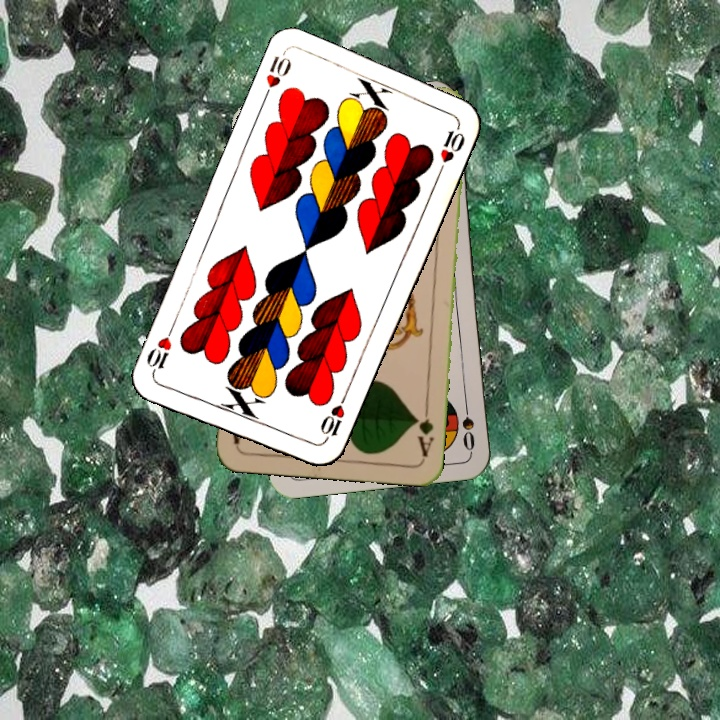GA: (411, 401, 437, 459)
H10: (258, 49, 294, 106), (316, 390, 350, 446)
SO: (458, 394, 478, 453)
